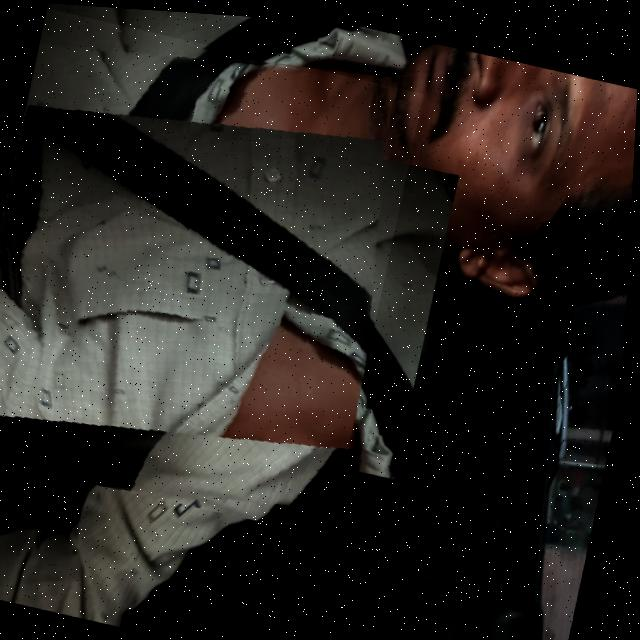seatbelt: (0, 5, 426, 536)
